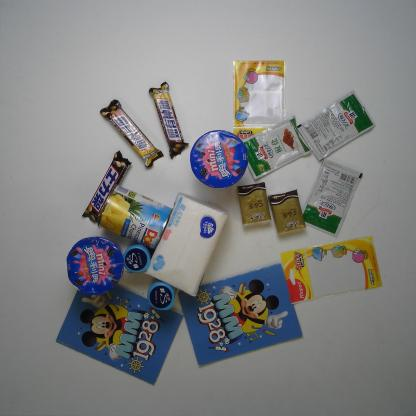Canned Food: (96, 186, 173, 251)
Chocolate: (99, 101, 164, 168), (81, 151, 132, 227), (148, 82, 188, 159)
Dessert: (66, 236, 123, 295), (189, 132, 248, 188)
Gum: (148, 281, 176, 310), (124, 245, 150, 273)
Seasoner: (298, 90, 374, 162), (299, 159, 361, 238), (238, 116, 311, 179)
Stationery: (55, 274, 183, 384), (177, 264, 303, 367), (281, 234, 382, 304), (234, 60, 287, 144)
Tissue: (144, 192, 229, 297), (268, 189, 306, 237), (236, 183, 272, 227)
